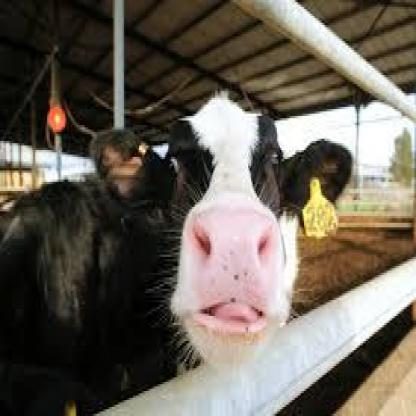cow: (0, 86, 354, 416)
